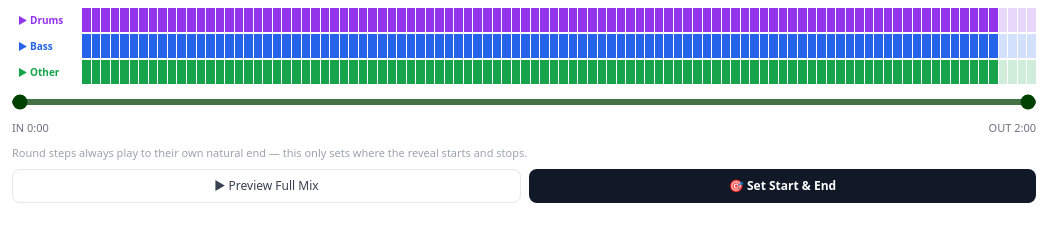
Test: <BendleOffsetScrubber> › surfaces an error when preview playback fails instead of silently doing nothing
This screenshot has width=1048, height=244.
Click the button "▶ Preview Full Mix": click(266, 186) 12,169 -> 521,203
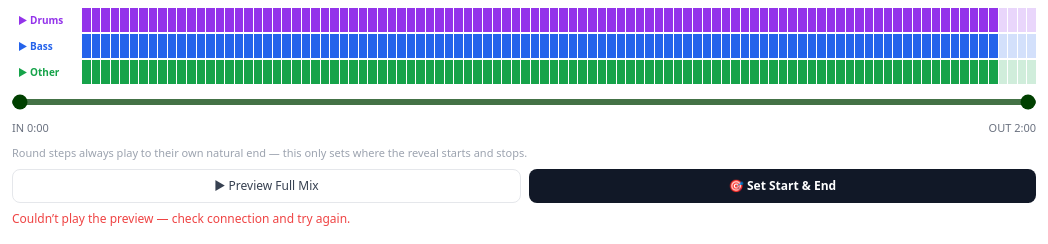
Result: the text "Couldn’t play the preview" is shown at 12,210 -> 350,227
